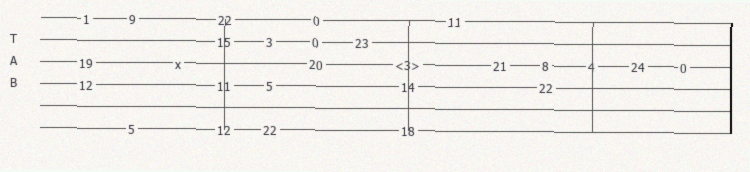0: (312, 14, 323, 27), (312, 36, 323, 49), (680, 58, 691, 71)
1: (82, 14, 93, 27)
11: (217, 80, 235, 93), (447, 14, 465, 27)
12: (79, 80, 97, 93), (217, 124, 235, 137)
14: (401, 80, 419, 93)
15: (217, 36, 235, 49)
18: (401, 124, 419, 137)
19: (79, 58, 97, 71)
20: (309, 58, 327, 71)
21: (493, 58, 511, 71)
22: (217, 14, 235, 27), (263, 124, 281, 137), (539, 80, 557, 93)
23: (355, 36, 373, 49)
24: (631, 58, 649, 71)
3: (266, 36, 277, 49)
4: (588, 58, 599, 71)
5: (128, 124, 139, 137), (266, 80, 277, 93)
8: (542, 58, 553, 71)
9: (128, 14, 139, 27)
harmonic: (395, 58, 424, 71)
x: (175, 59, 185, 70)
